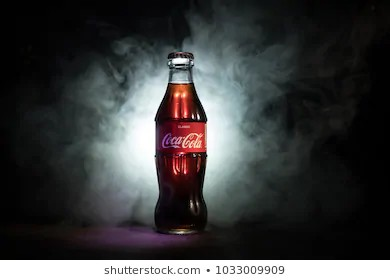coke-glass-bottle: (154, 50, 206, 235)
